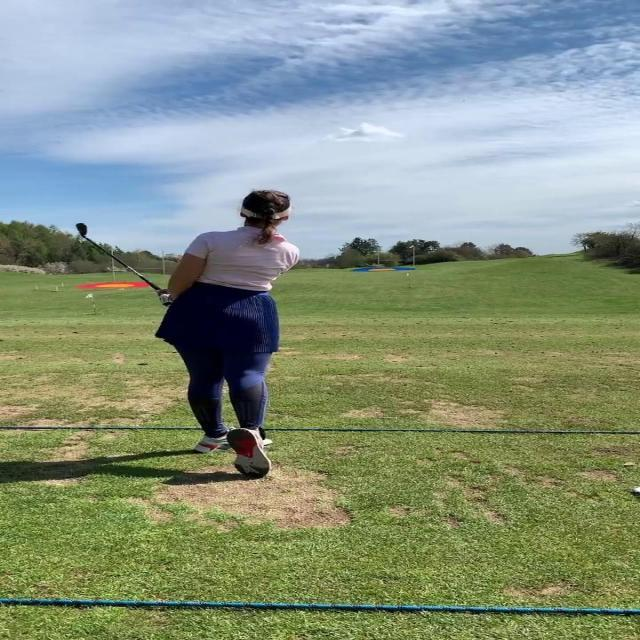golf club-handle: (73, 222, 161, 290)
golf club-head: (76, 224, 91, 236)
